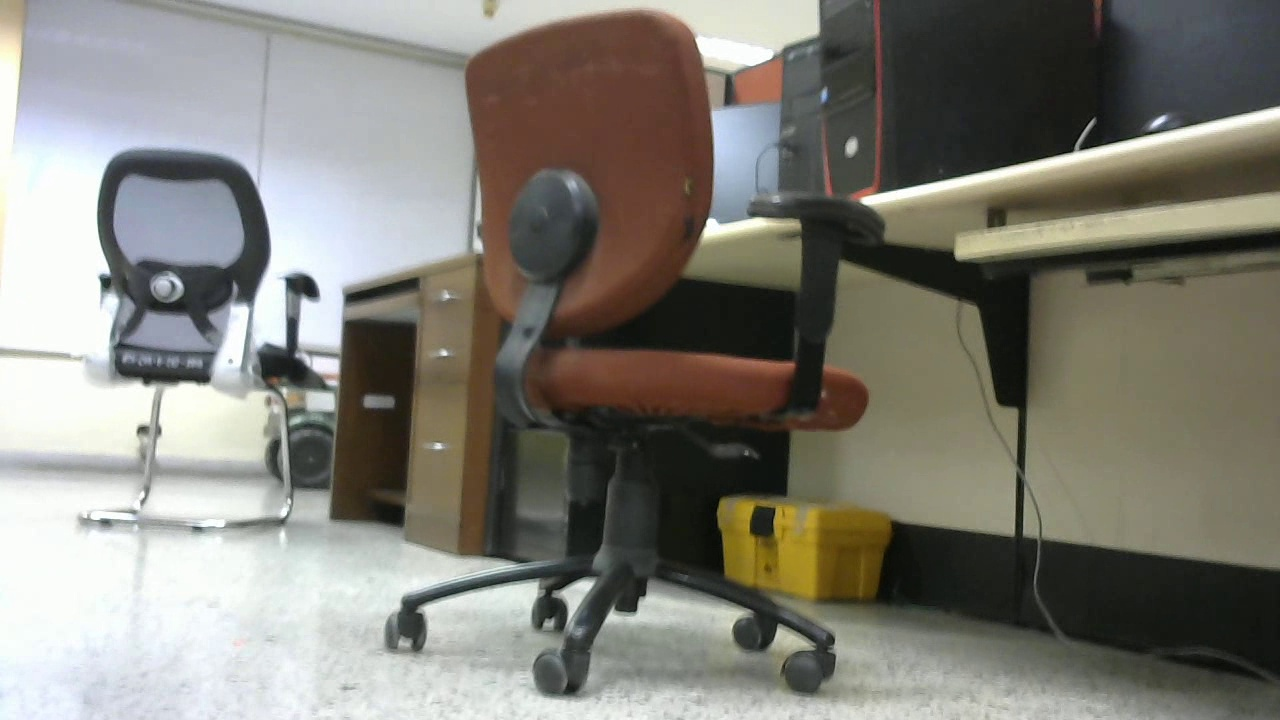chair: (380, 6, 879, 714), (73, 141, 336, 538)
